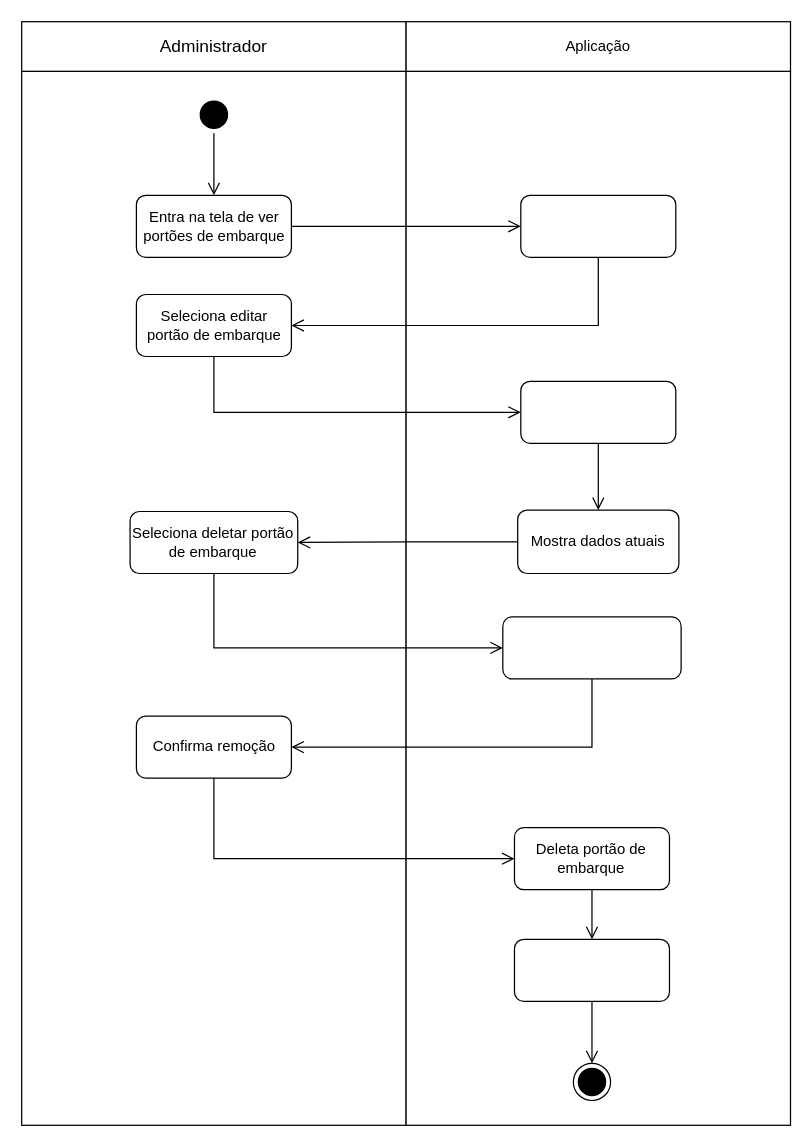
Some shapes in this 812 by 1147 pixel diagram are drawn without their labels. Here are the shapes that lost their labels. From the top down, the centre of each, then its label:
At point 598,225: "Mostra portões de embarque".
At point 598,411: "Abre tela de editar portão de embarque".
At point 591,647: "Pergunta se tem certeza".
At point 591,969: "Informa que o portão de embarque foi deletado com sucesso".
